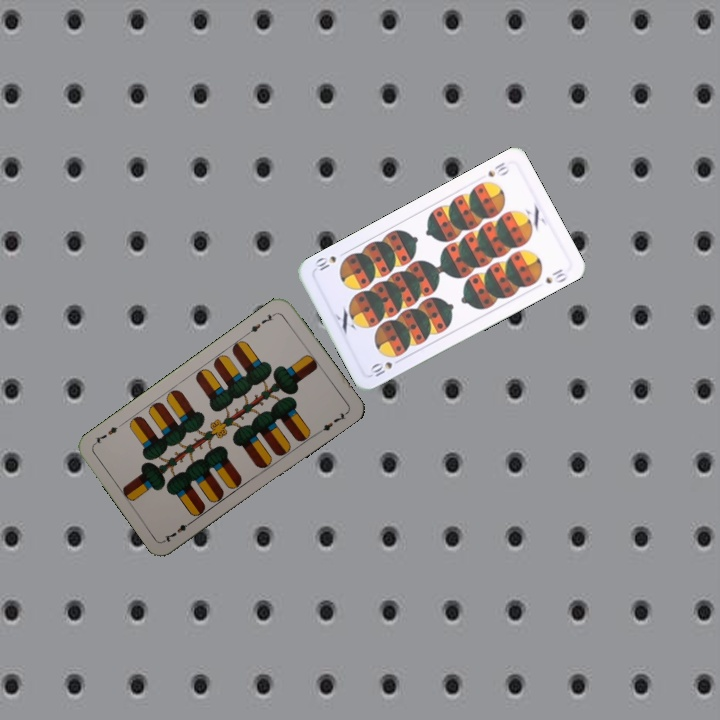E7: (160, 516, 196, 545), (243, 309, 279, 337)
S10: (366, 354, 405, 380), (484, 158, 512, 180)
